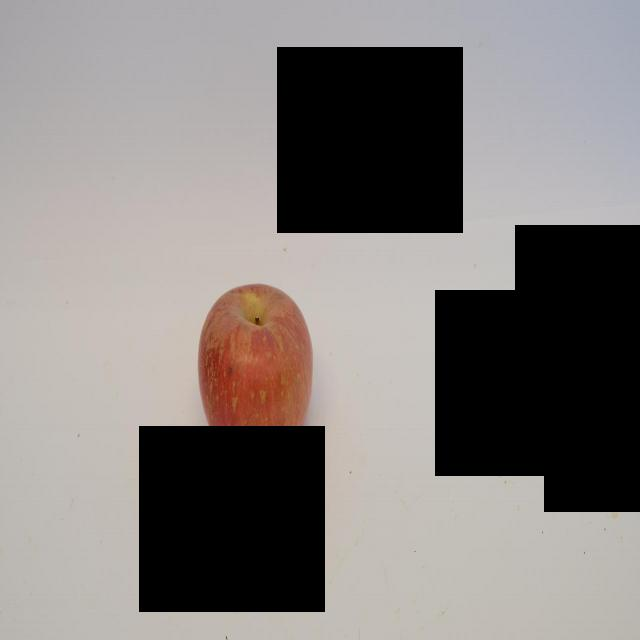apple: (195, 277, 317, 473)
